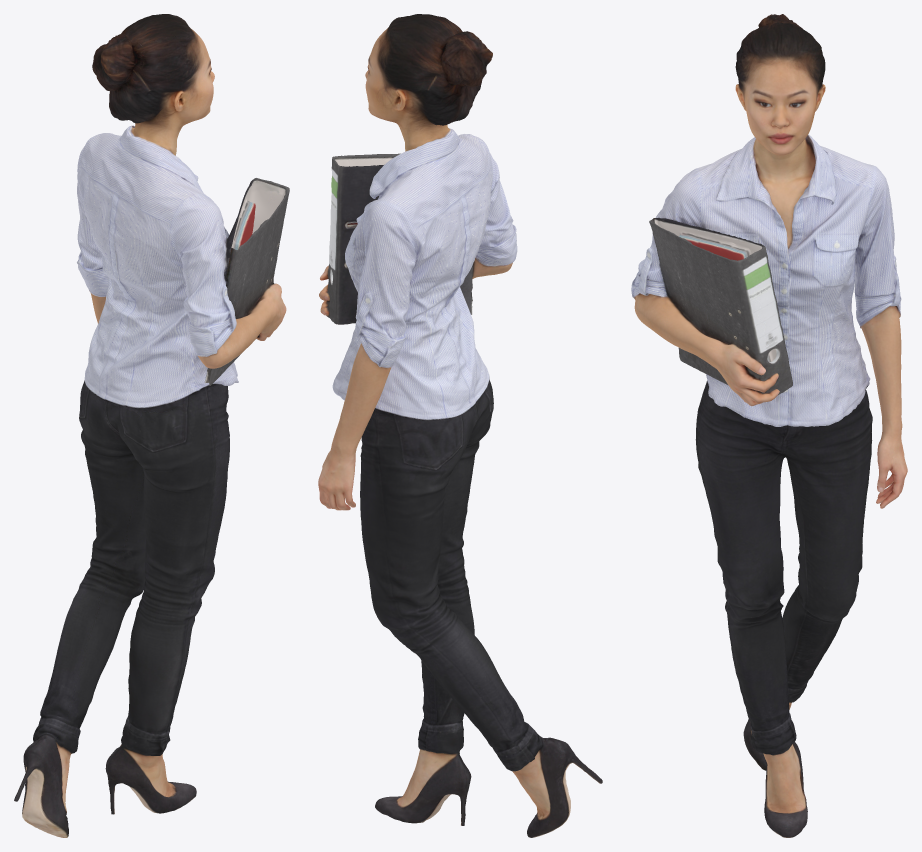
The model's file is person2.glb.
The picture shows the model from 3 angles, left to right: view 1: azimuth 30°, elevation 25°; view 2: azimuth 150°, elevation 25°; view 3: azimuth 270°, elevation 25°; orthographic projection.
Parts seen in each view (by area): view 1: Object_3; view 2: Object_3; view 3: Object_3.
Part boxes in pixels (bbox=[...]): Object_3: bbox=[14, 14, 289, 837]; Object_3: bbox=[318, 14, 602, 837]; Object_3: bbox=[631, 14, 907, 837].
Bounding box in the file's own units: 61.16 × 170 × 53.64.
Materials: 1 (1 with a texture image).
